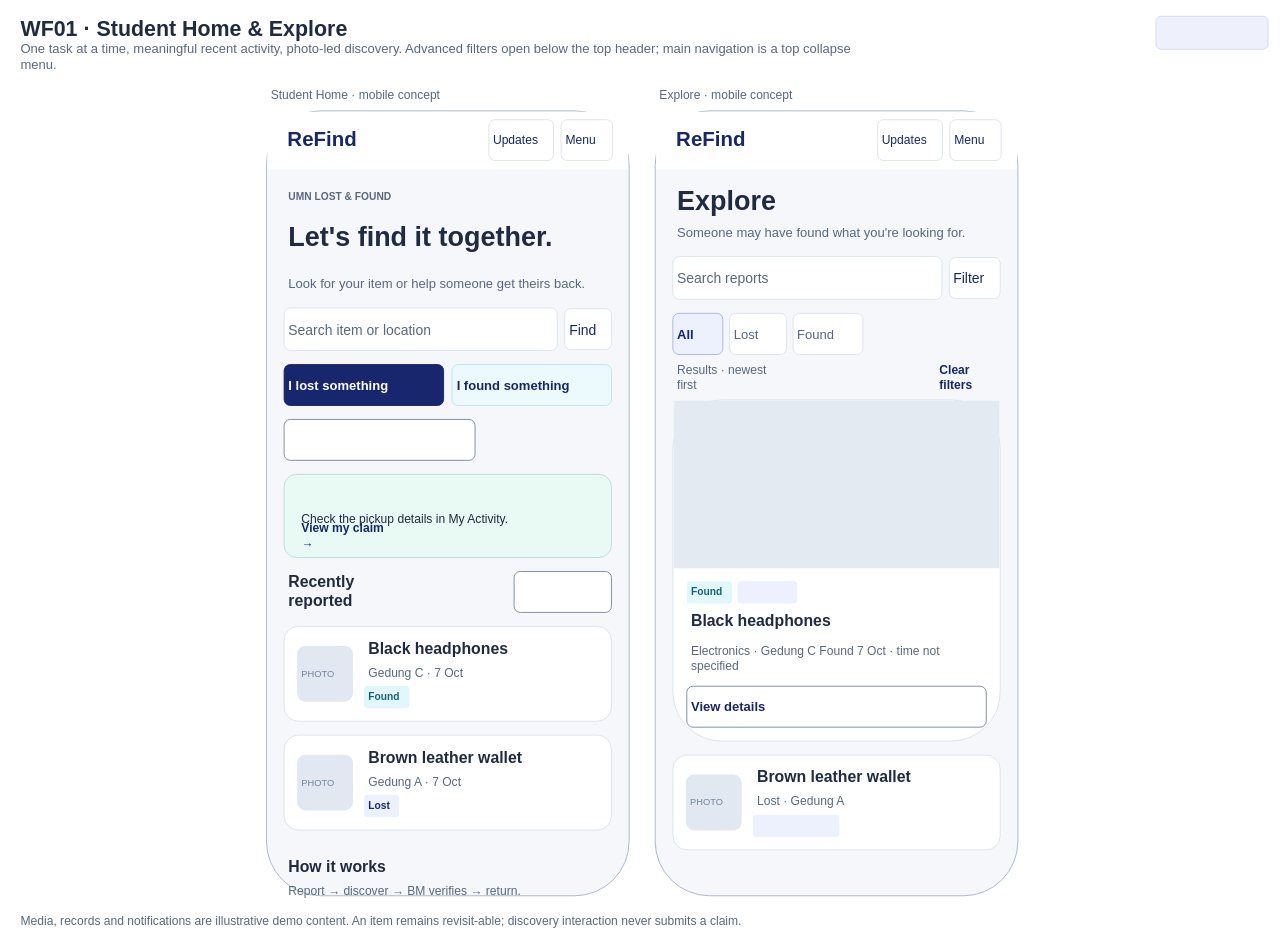
Some shapes in this 1284 by 946 pixel diagram are drawn without their labels. The shapes that lost their labels are listed below. From the top down, each one's centre as x and y in pixels, then its label:
point 1211,32: CONCEPT / UX01
point 379,439: Follow my reports and claims
point 836,484: Public item photo placeholder
point 562,591: Explore all →
point 767,592: Reported
point 795,825: Possible match
